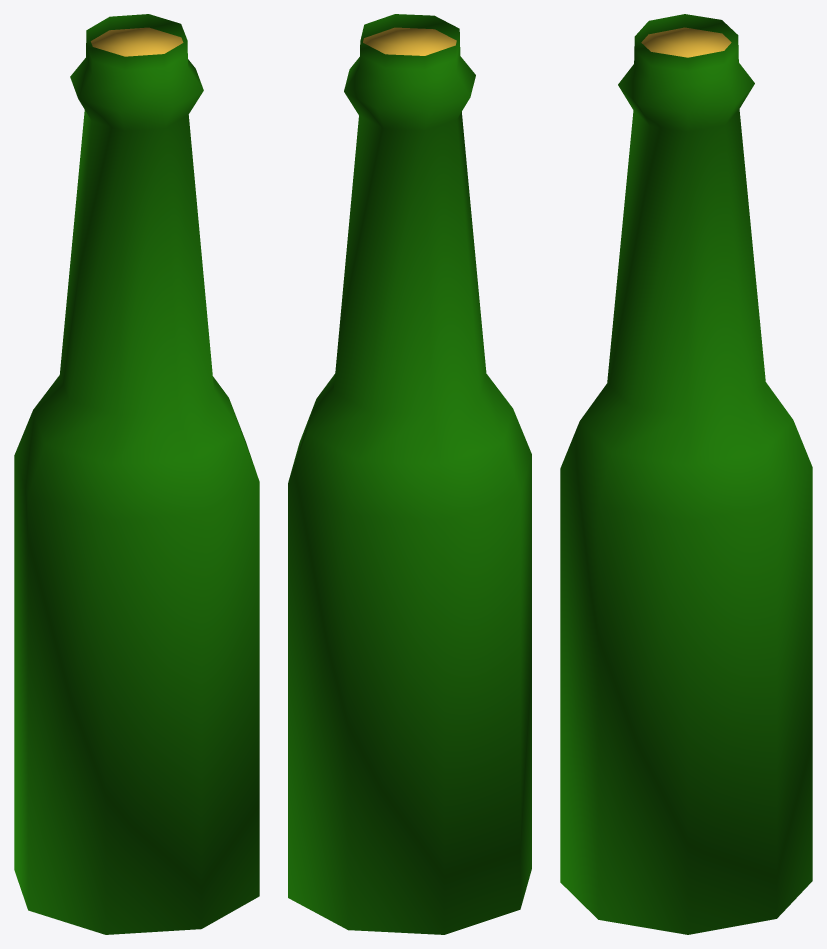
Rendered from piwo.fbx.
3 renders of one model, left to right at view 1: azimuth 30°, elevation 25°; view 2: azimuth 150°, elevation 25°; view 3: azimuth 270°, elevation 25°, orthographic.
Parts seen in each view (by area): view 1: Plane; view 2: Plane; view 3: Plane.
Part boxes in pixels (x1,y1,x2,y2): Plane: [14, 14, 259, 934]; Plane: [288, 14, 531, 934]; Plane: [560, 14, 812, 934].
Size of the model in its own units: 128 by 472 by 128.
